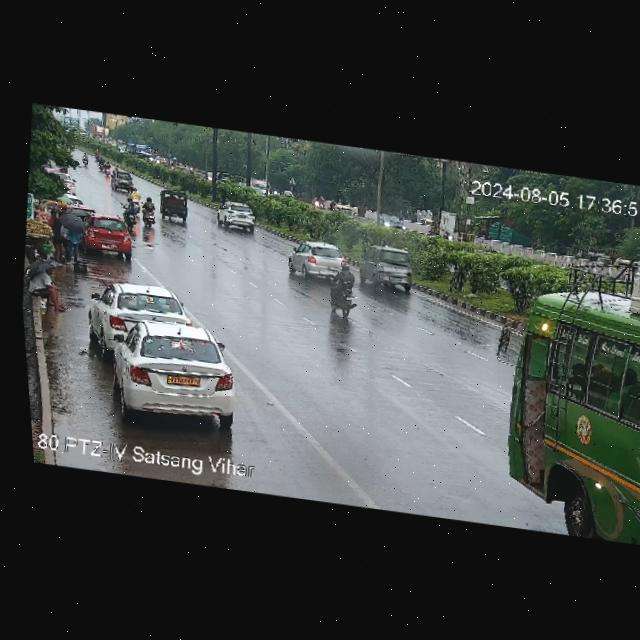bus: (485, 244, 640, 546)
car: (104, 314, 248, 428), (86, 276, 191, 353), (356, 244, 420, 294), (285, 242, 354, 283), (79, 215, 135, 258), (210, 197, 265, 238), (158, 190, 192, 220), (109, 170, 134, 191)
motorcycle: (325, 260, 364, 320), (119, 196, 139, 230), (140, 193, 160, 226), (129, 186, 142, 207), (104, 159, 113, 176), (97, 155, 106, 171), (82, 153, 89, 166), (94, 148, 100, 159)
person: (41, 200, 91, 264), (21, 261, 76, 314)
